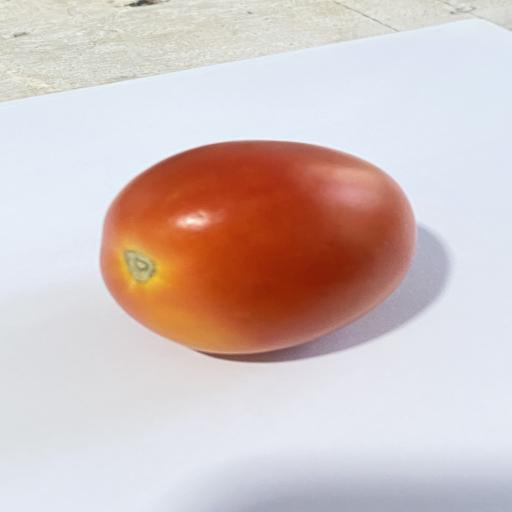ripe: (100, 141, 416, 354)
